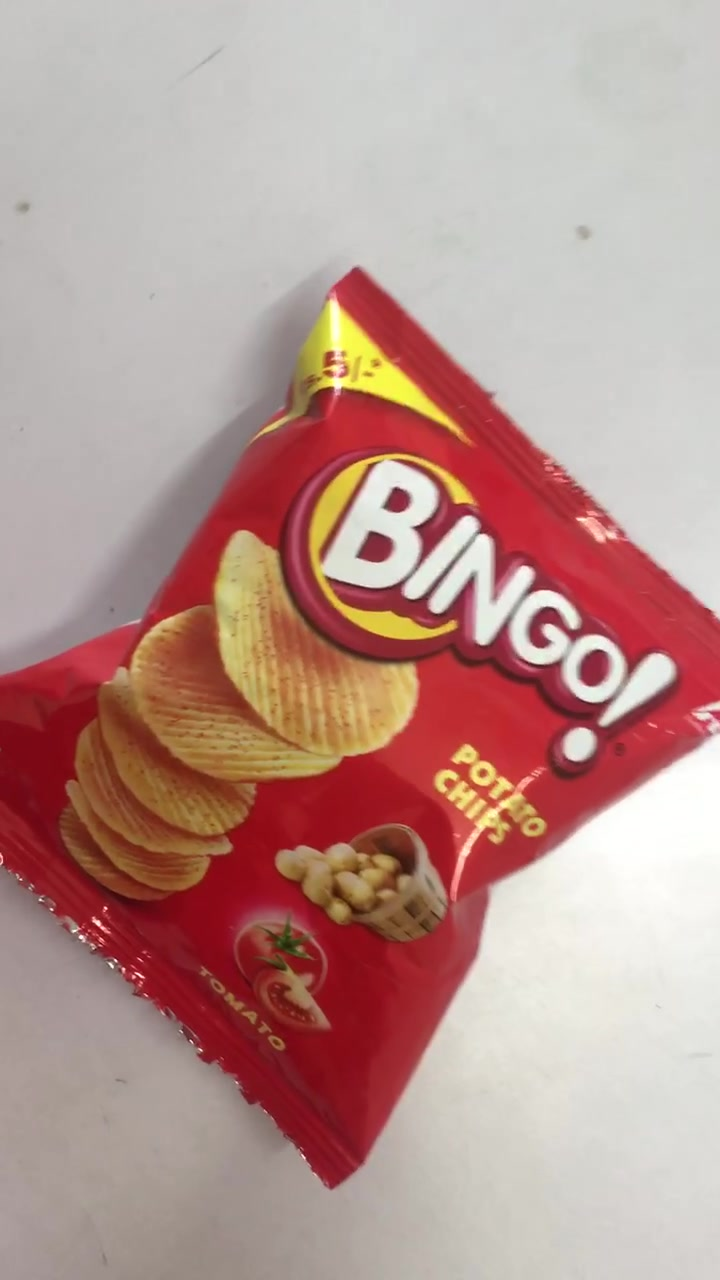Bingo: (3, 282, 720, 1169)
